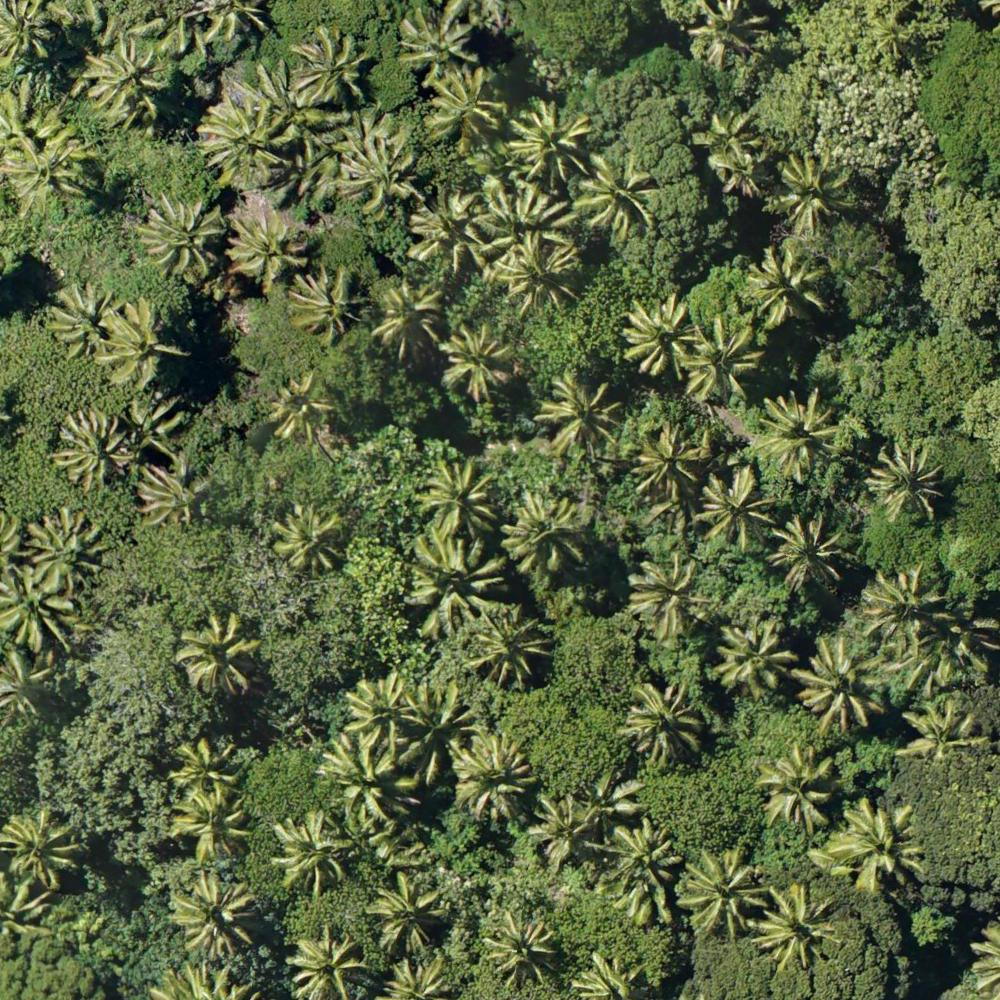Palm: (402, 533, 505, 635), (321, 728, 418, 823), (475, 174, 574, 266), (197, 92, 296, 183), (830, 802, 923, 896), (799, 639, 889, 729), (752, 393, 843, 481), (1, 561, 79, 663), (680, 849, 769, 938), (135, 196, 225, 281), (405, 188, 488, 280), (768, 151, 858, 235), (169, 871, 256, 956), (862, 566, 951, 649), (78, 38, 163, 124), (452, 735, 535, 823), (754, 882, 840, 966), (752, 745, 833, 834), (1, 804, 82, 892), (630, 552, 715, 635), (174, 614, 259, 697), (23, 513, 108, 596), (536, 375, 618, 459), (509, 101, 593, 183), (576, 155, 661, 236), (498, 232, 585, 311), (423, 67, 507, 148), (684, 316, 763, 402), (505, 490, 590, 569), (340, 136, 421, 217), (369, 873, 447, 957), (418, 461, 497, 543), (769, 513, 852, 591), (626, 680, 705, 761), (745, 245, 823, 327), (7, 132, 85, 213), (226, 208, 309, 284), (289, 29, 372, 105), (272, 808, 347, 892), (618, 294, 692, 379), (605, 822, 673, 912), (871, 439, 947, 519), (715, 622, 797, 696), (396, 2, 478, 76), (270, 499, 348, 575), (685, 1, 770, 69), (474, 610, 551, 685), (57, 410, 137, 482), (697, 469, 773, 544), (288, 264, 364, 339), (106, 299, 174, 381), (166, 794, 250, 860), (440, 323, 517, 394), (289, 930, 368, 999), (901, 697, 986, 761), (132, 460, 214, 525), (533, 792, 603, 868), (485, 913, 554, 988), (343, 675, 415, 741), (173, 735, 243, 797), (49, 284, 111, 354), (376, 284, 442, 344), (711, 133, 772, 196), (271, 376, 334, 435)
